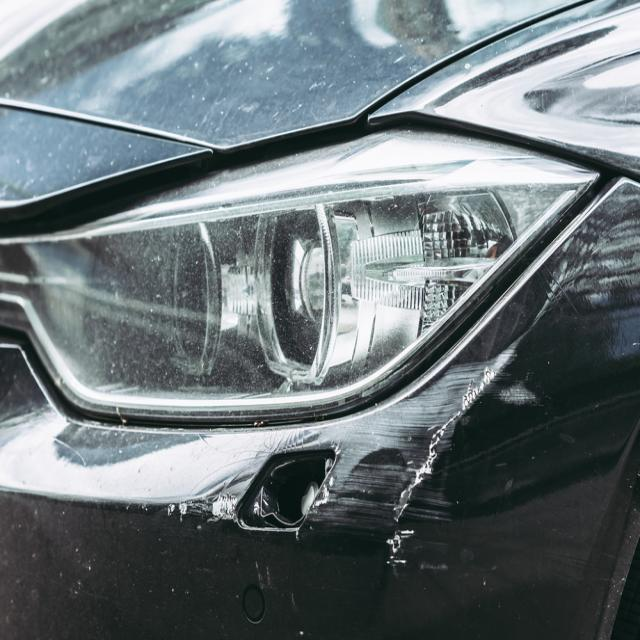scratch: (303, 325, 551, 585)
